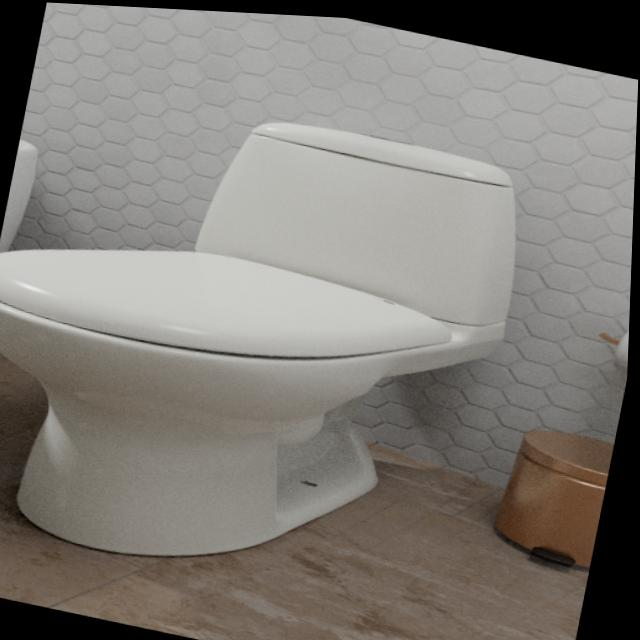toilet: (0, 62, 542, 621)
